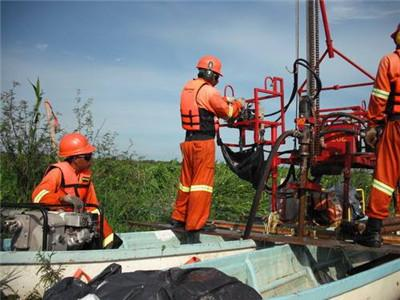helmet: (59, 134, 96, 158), (198, 55, 225, 80)
